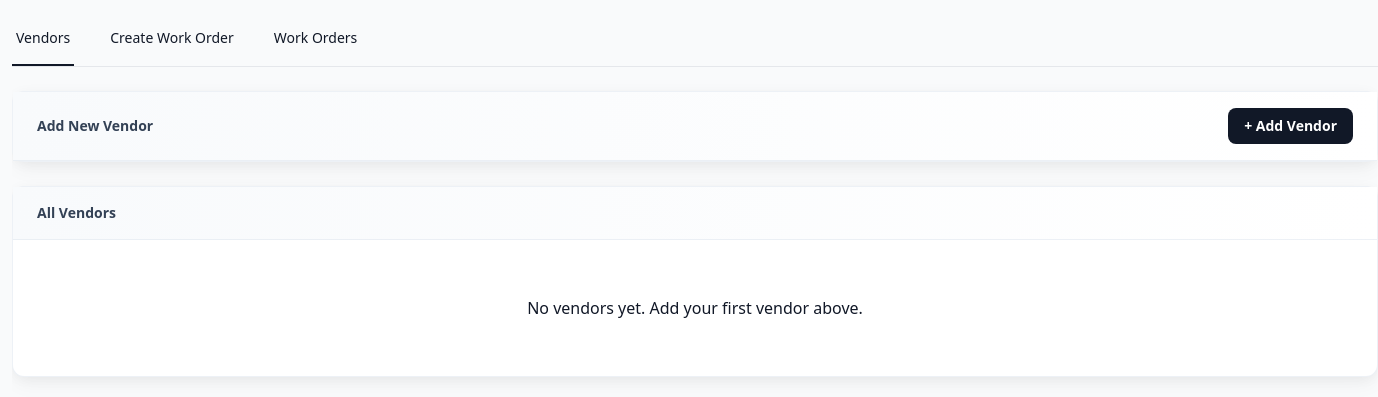
it: MaintenancePage › should display work orders list
Click the button "Work Orders". click: (316, 39)
box: [270,12,361,66]
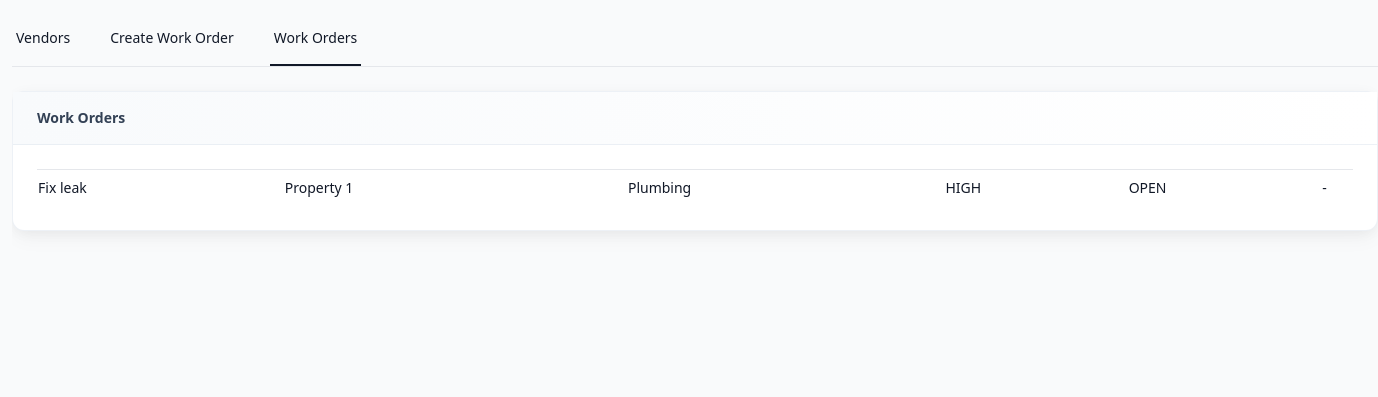
Expected: the link "Fix leak" is shown, [38,178,87,197]
